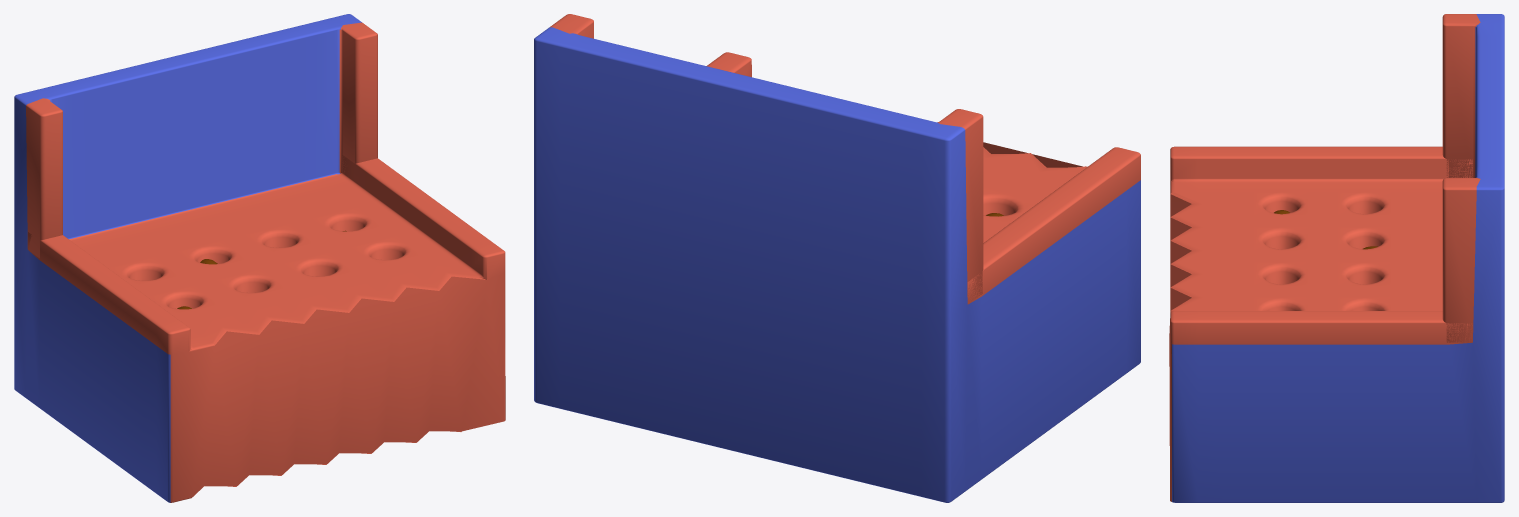
Rendered from whak_a_mole.fbx.
3 renders of one model, left to right at view 1: azimuth 30°, elevation 25°; view 2: azimuth 150°, elevation 25°; view 3: azimuth 270°, elevation 25°, orthographic. The views are drawn at different scales.
Parts seen in each view (by area): view 1: Cube; view 2: Cube; view 3: Cube.
Part boxes in pixels (x1=…): Cube: x1=14, y1=14, x2=505, y2=502; Cube: x1=534, y1=14, x2=1140, y2=502; Cube: x1=1169, y1=14, x2=1504, y2=502.
Size of the model in its own units: 582 by 487 by 469.
6 materials, 4 textured.
